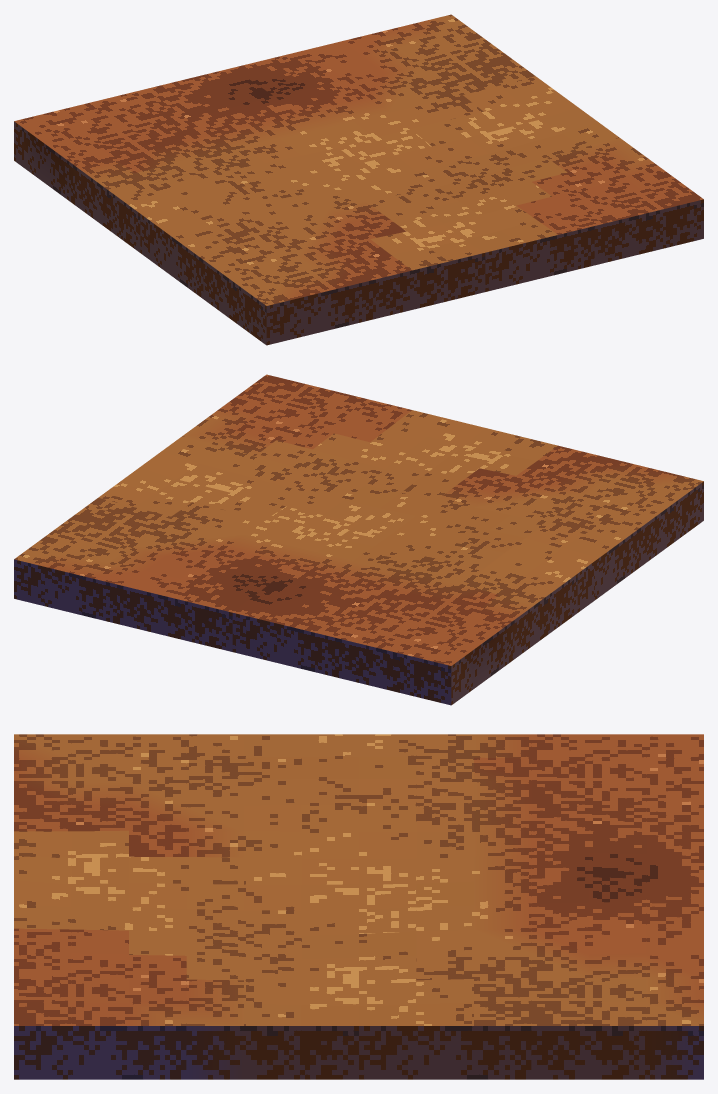
Rendered from planet.trail__bend.glb.
3 renders of one model, top to bottom at view 1: azimuth 30°, elevation 25°; view 2: azimuth 150°, elevation 25°; view 3: azimuth 270°, elevation 25°, orthographic. The views are drawn at different scales.
Visible parts, largest first — view 1: kit_ground; view 2: kit_ground; view 3: kit_ground.
Boxes of the visible parts, bbox=[...] form: kit_ground: bbox=[14, 14, 703, 345]; kit_ground: bbox=[14, 374, 703, 705]; kit_ground: bbox=[14, 734, 703, 1079].
Size of the model in its own units: 8 by 0.7404 by 8.
3 materials, 3 textured.
